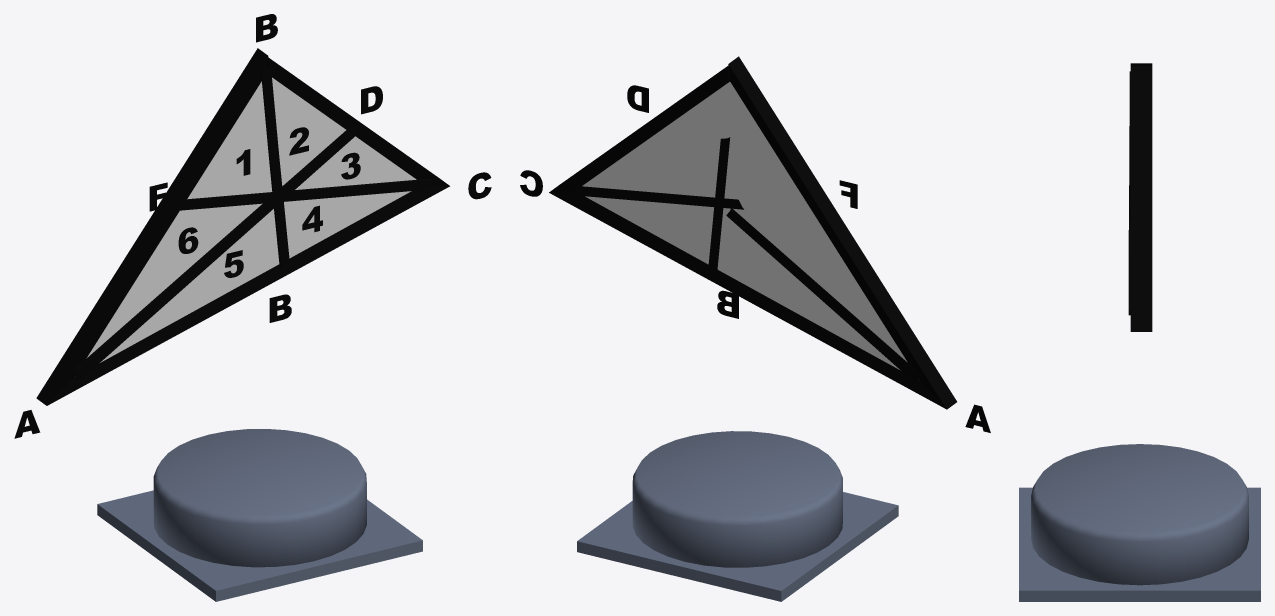
The picture shows the model from 3 angles, left to right: view 1: azimuth 30°, elevation 25°; view 2: azimuth 150°, elevation 25°; view 3: azimuth 270°, elevation 25°; orthographic projection. The views are drawn at different scales.
Parts seen in each view (by area): view 1: Cube.001, Cylinder, Cube, Cube.002, Cube.003, Cube.004; view 2: Cube.001, Cylinder, Cube, Cube.002, Cube.003, Cube.004; view 3: Cylinder, Cube, Cube.001.
Boxes of the visible parts, x1,y1,x2,y2 form: Cube.001: (36, 48, 449, 405); Cylinder: (153, 429, 366, 567); Cube: (97, 490, 422, 601); Cube.002: (73, 126, 357, 381); Cube.003: (176, 179, 432, 210); Cube.004: (261, 69, 290, 273); Cube.001: (549, 56, 956, 409); Cylinder: (632, 431, 842, 567); Cube: (577, 492, 898, 601); Cube.002: (726, 208, 920, 384); Cube.003: (568, 185, 743, 209); Cube.004: (708, 77, 730, 275); Cylinder: (1031, 444, 1248, 585); Cube: (1019, 487, 1260, 601); Cube.001: (1130, 63, 1152, 331).
Size of the model in its own units: 21.1 by 22.05 by 9.09.
